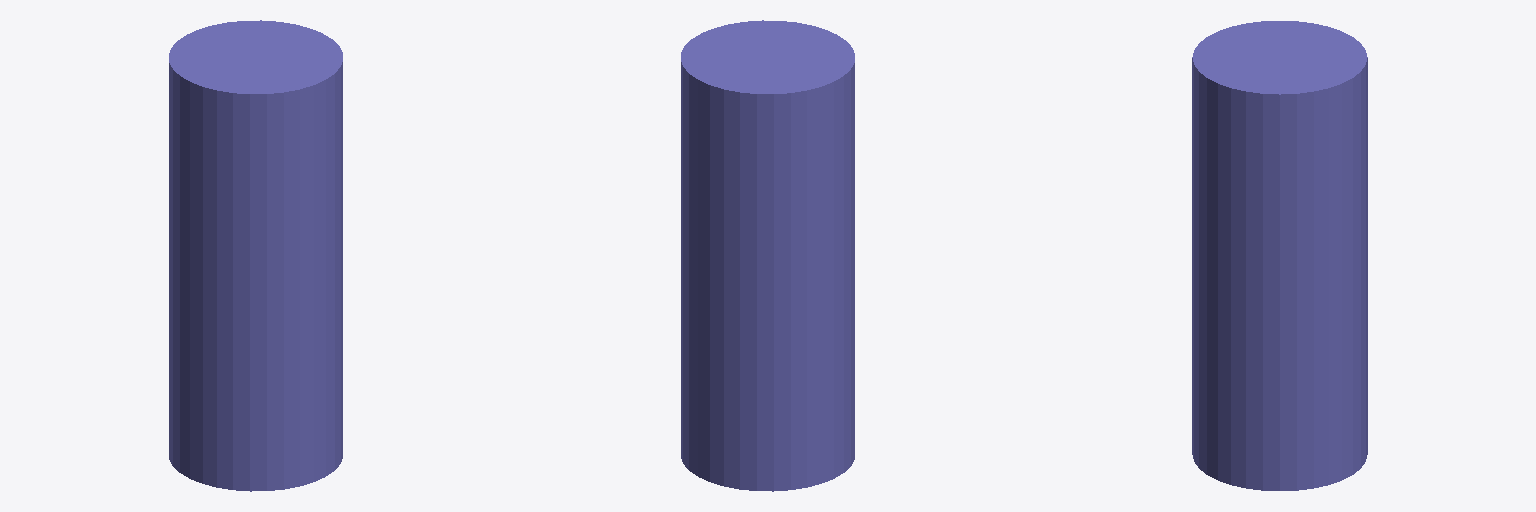
URDF robot description (test):
<?xml version="1.0"?>
<robot name="test">
    <material name="color">
        <color rgba="0.5 0.5 0.8 1.0"/>
    </material>

<link name="baseLink">
<inertial>
    <origin xyz="0.0 0.0 0.0" rpy="0.0 0.0 0.0"/>
    <inertia ixx="0.0" ixy="0.0" ixz="0.0" iyy="0.0" iyz="0.0" izz="0.0"/>
    <mass value="0.0"/>
</inertial>
<visual name='cube'>
   <origin xyz="0.0 0.0 0.0" rpy="0.0 0.0 0.0"/>
   <geometry>
       <cylinder radius="1" length="5"/>
   </geometry> 
   <material name="color"/>
</visual>    
</link>
    
</robot>

--- Render facts (derived) ---
Views: 3 orthographic renders of the robot side by side, from view 1: azimuth 30°, elevation 25°; view 2: azimuth 150°, elevation 25°; view 3: azimuth 270°, elevation 25°.
Model test with 1 links and 0 joints (none), rooted at baseLink, posed all joints at 0.
Links seen in each view (by area): view 1: baseLink; view 2: baseLink; view 3: baseLink.
Link boxes in pixels (box(x1,y1,x2,y2)): baseLink: box(169, 20, 342, 491); baseLink: box(681, 20, 854, 491); baseLink: box(1192, 21, 1367, 490).
Bounding box of the posed robot: 2 × 2 × 5 m (x, y, z).
Geometry: primitives only (box / cylinder / sphere), no mesh files.